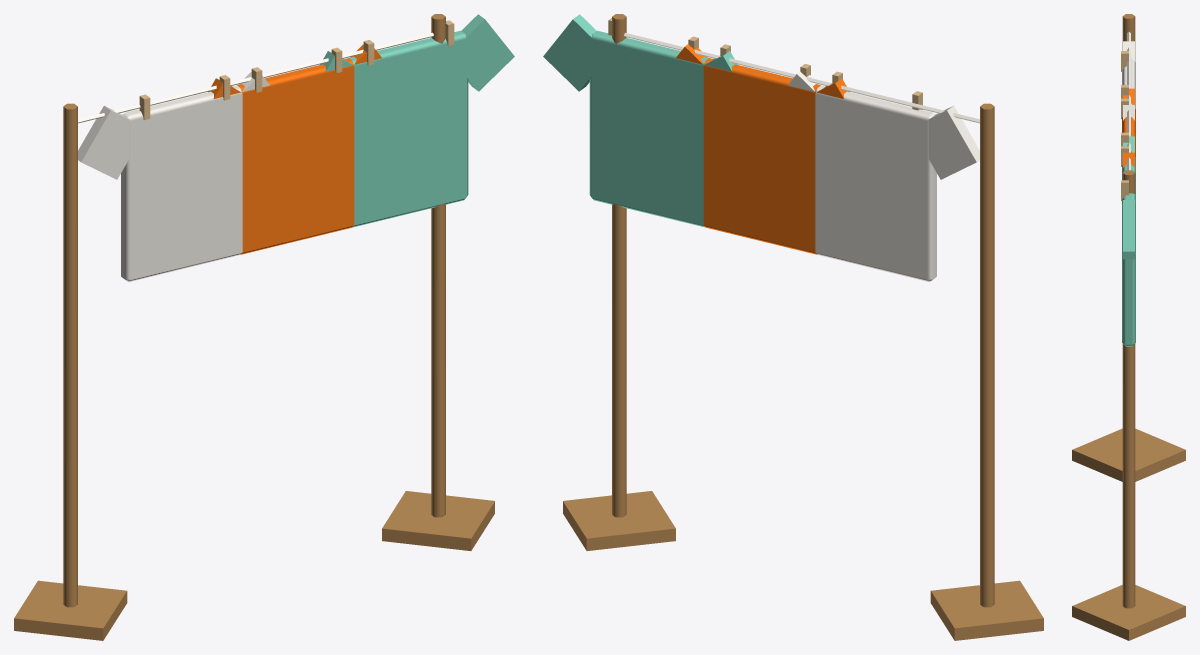
File: station_buffer_ausstattung_3_0.glb
3 renders of one model, left to right at view 1: azimuth 30°, elevation 25°; view 2: azimuth 150°, elevation 25°; view 3: azimuth 270°, elevation 25°, orthographic. The views are drawn at different scales.
Parts seen in each view (by area): view 1: station_buffer_ausstattung_3_0; view 2: station_buffer_ausstattung_3_0; view 3: station_buffer_ausstattung_3_0.
Part boxes in pixels (x1,y1,x2,y2): station_buffer_ausstattung_3_0: (14, 14, 514, 640); station_buffer_ausstattung_3_0: (543, 14, 1043, 640); station_buffer_ausstattung_3_0: (1072, 14, 1185, 640).
Bounding box in the file's own units: 1.24 × 1.22 × 0.2828.
